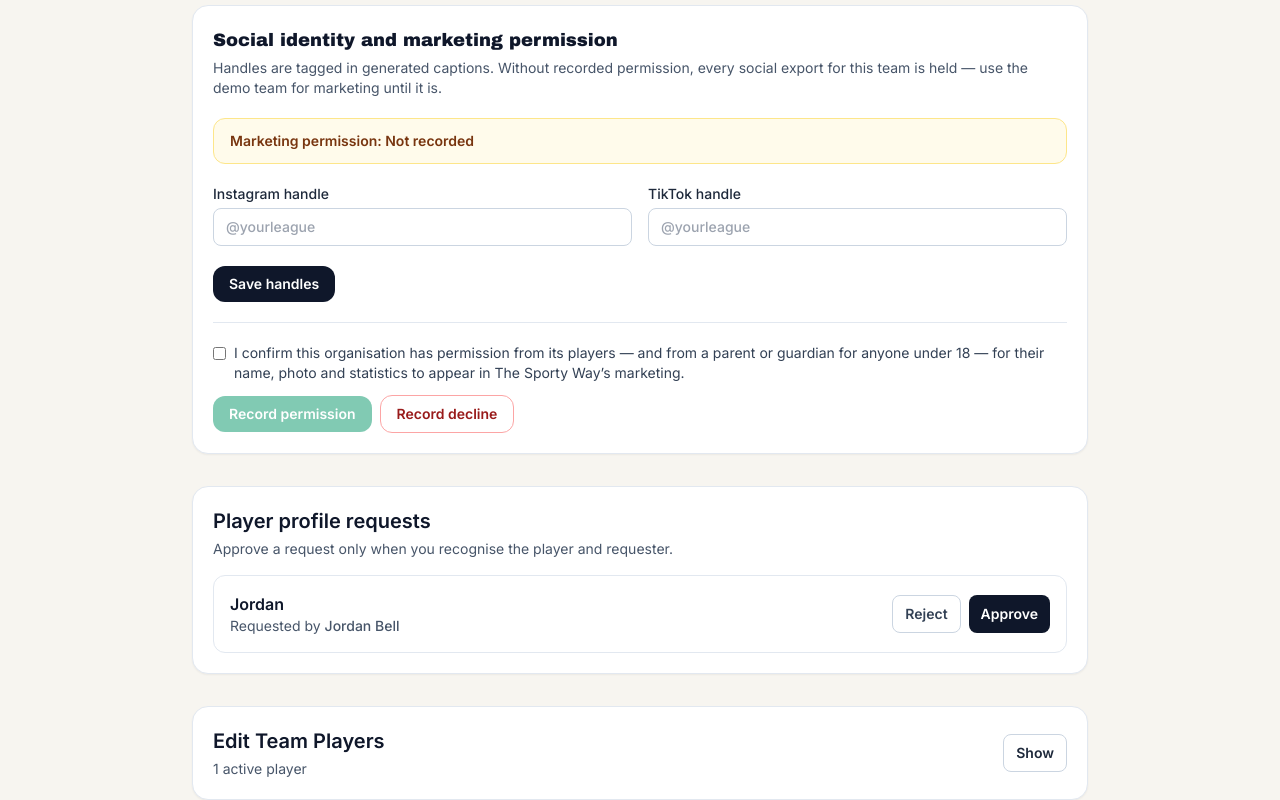
Test: EditTeamPage › lets the team owner approve a standalone player claim
The image size is (1280, 800).
(page scrolled)
expect the text "Jordan Bell" is shown: met, box [325,617,400,634]
What coordinates should you click on to do the following:
click the button "Approve"
I would click on:
 (1009, 614)
Its box is [969,595,1050,633].
(page scrolled)
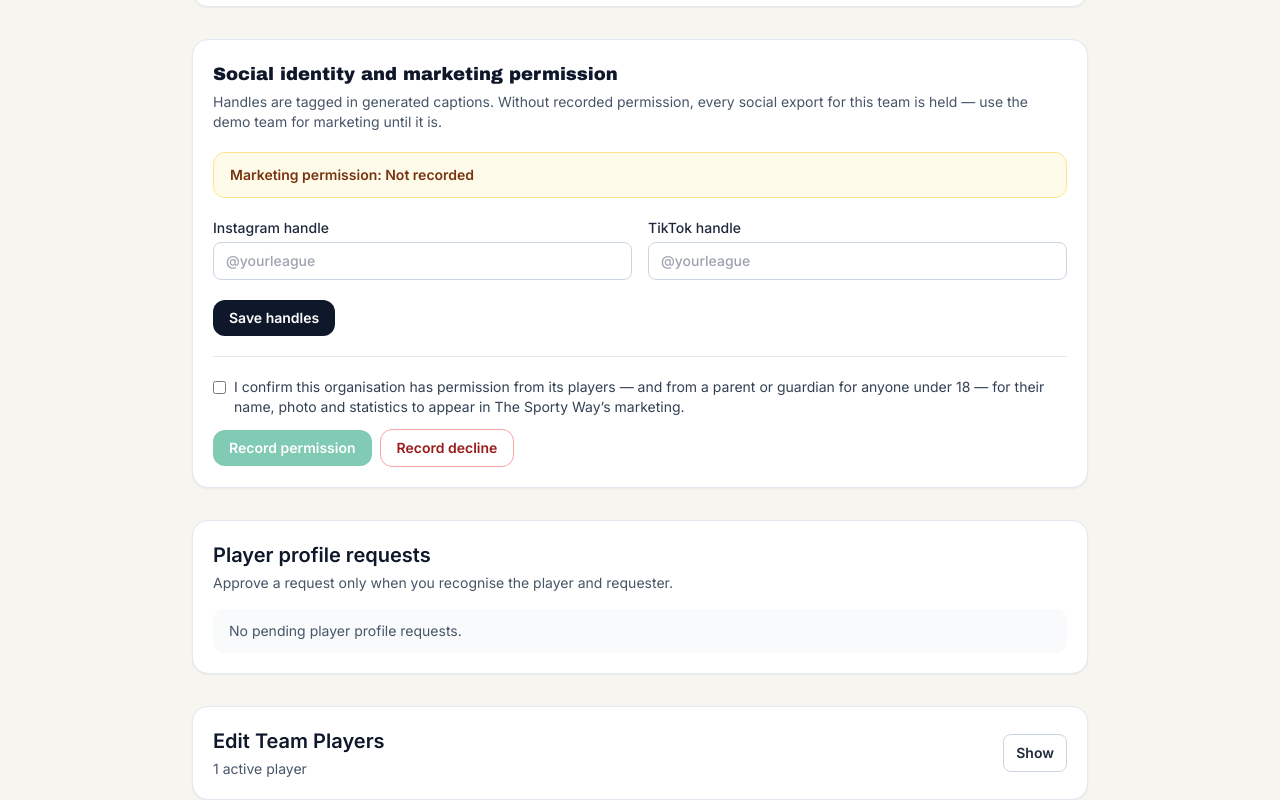
expect the text "Jordan Bell" is gone: met
